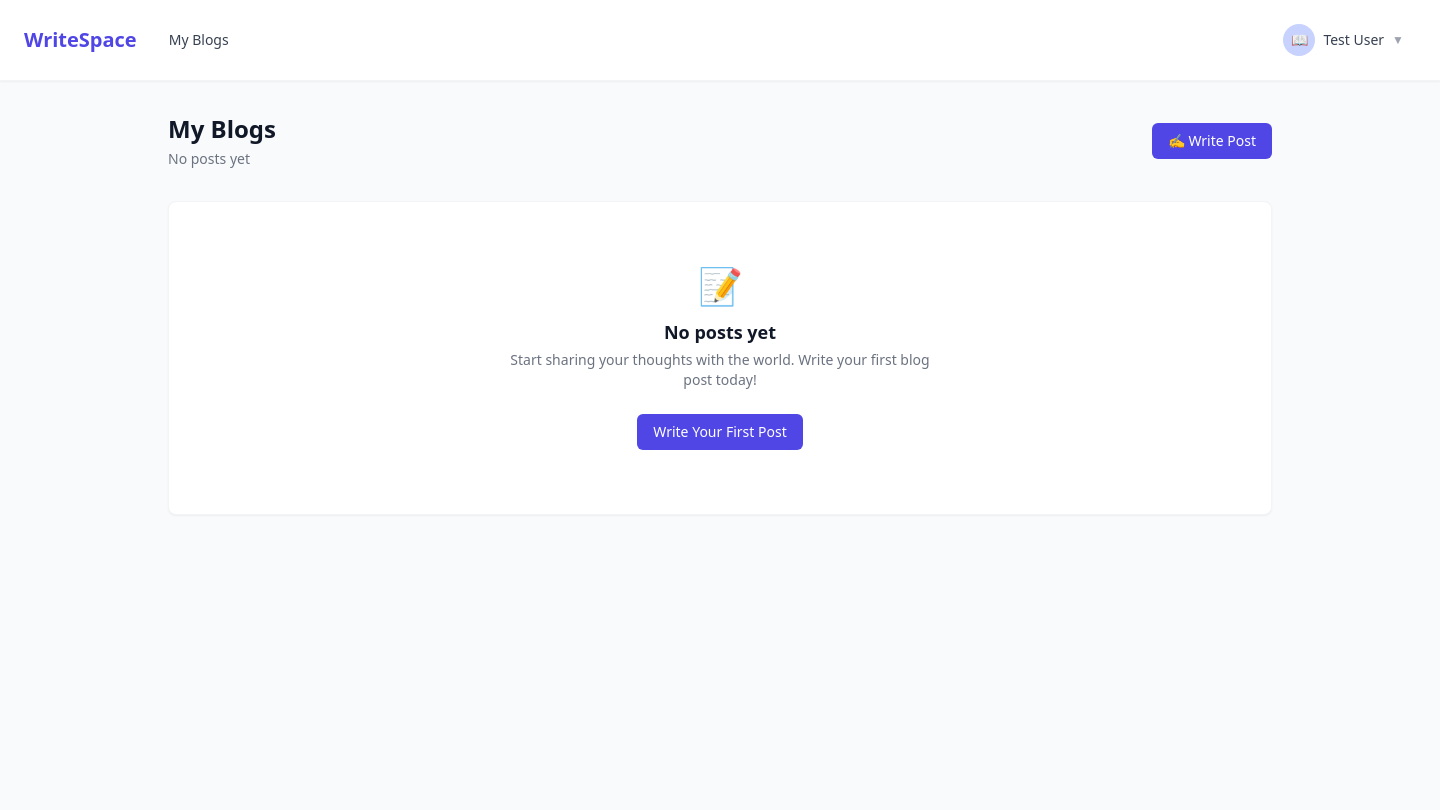
Test case: App routing › navigation between pages › authenticated user can navigate from blogs to write new post
Click the link "✍️ Write Post".
click(1212, 141)  # box x1=1152 y1=123 x2=1272 y2=159
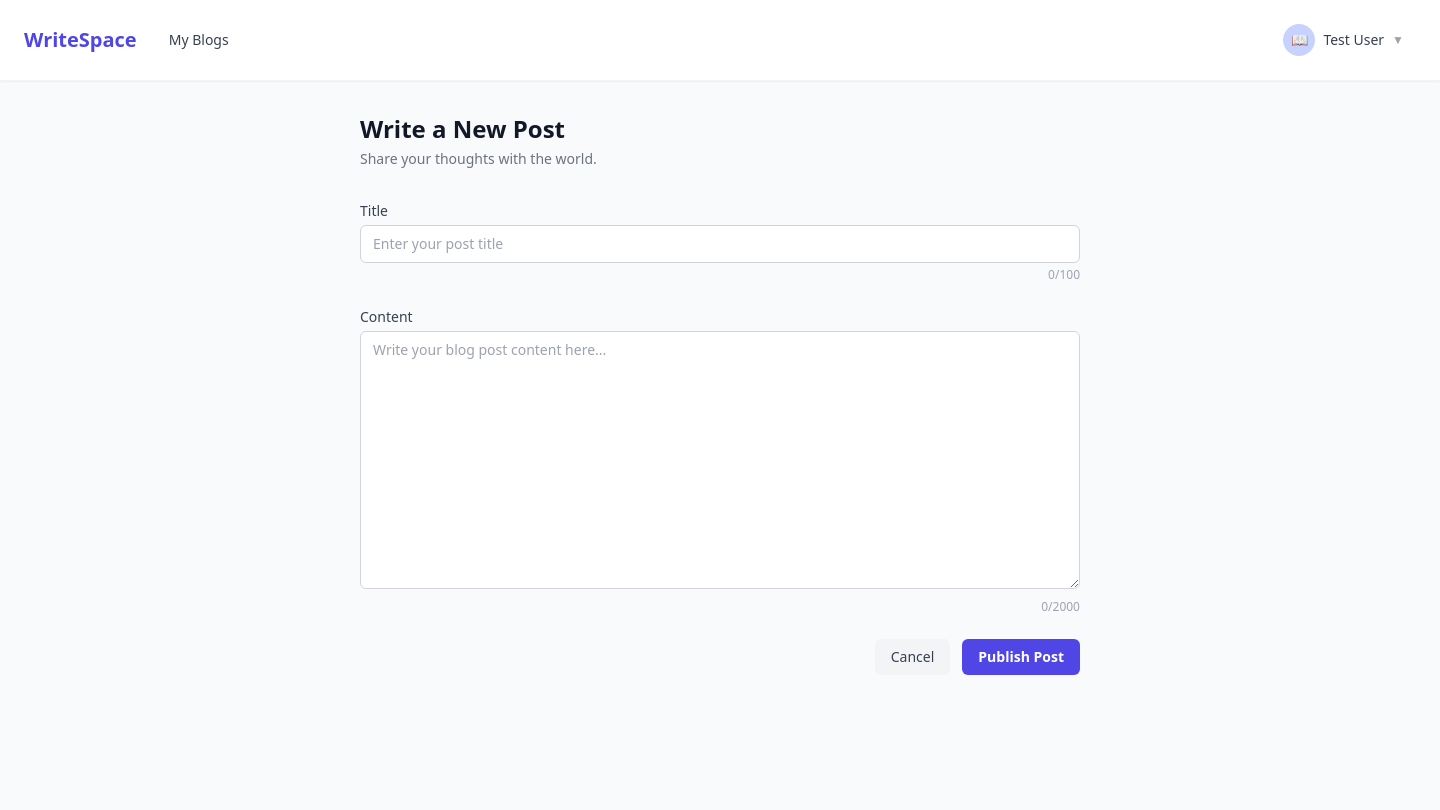
Check: the heading "Write a New Post" is shown, box x1=360 y1=112 x2=565 y2=145
